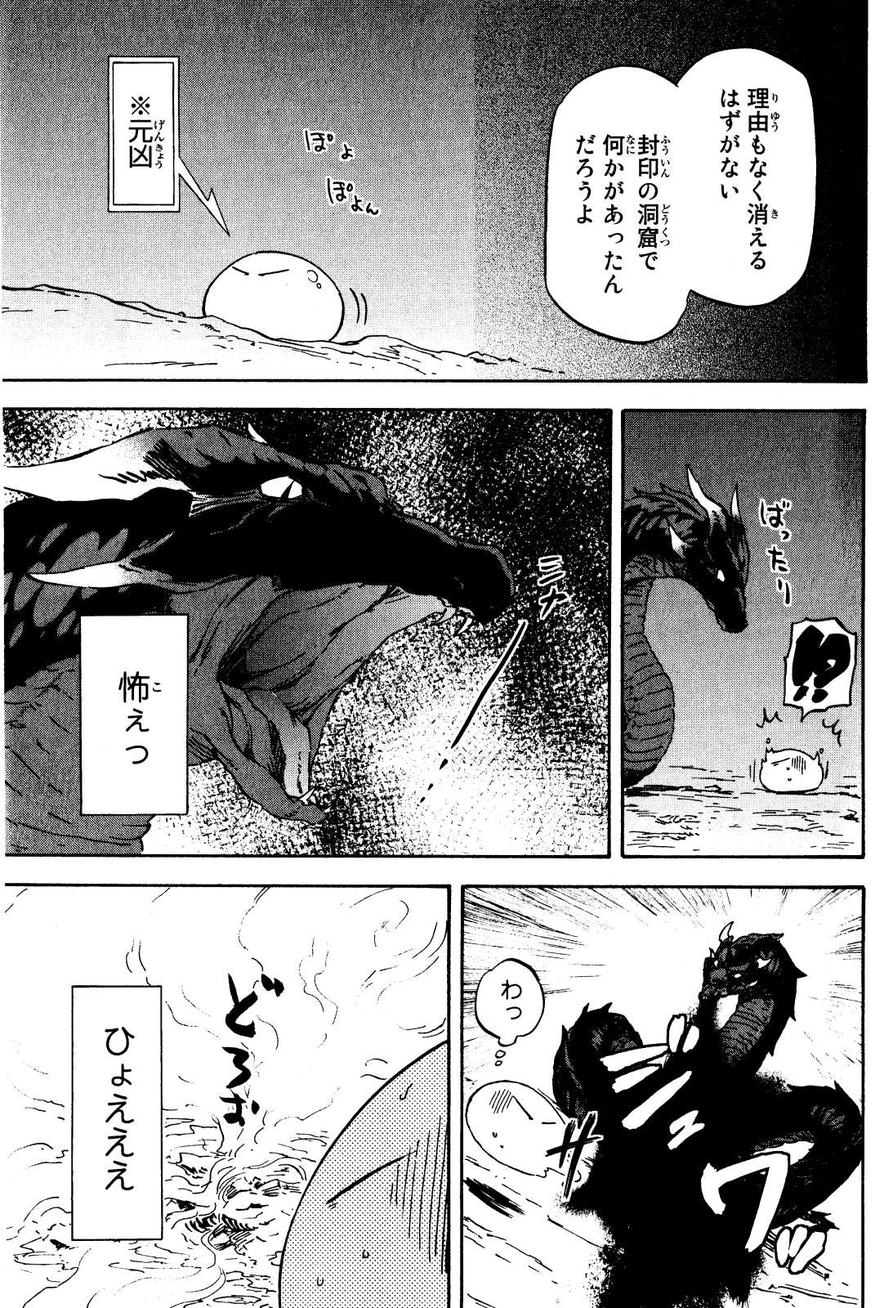bubbles: (538, 41, 824, 352), (67, 982, 169, 1247), (103, 51, 239, 238), (76, 604, 192, 821), (776, 610, 862, 733), (471, 955, 551, 1075)
